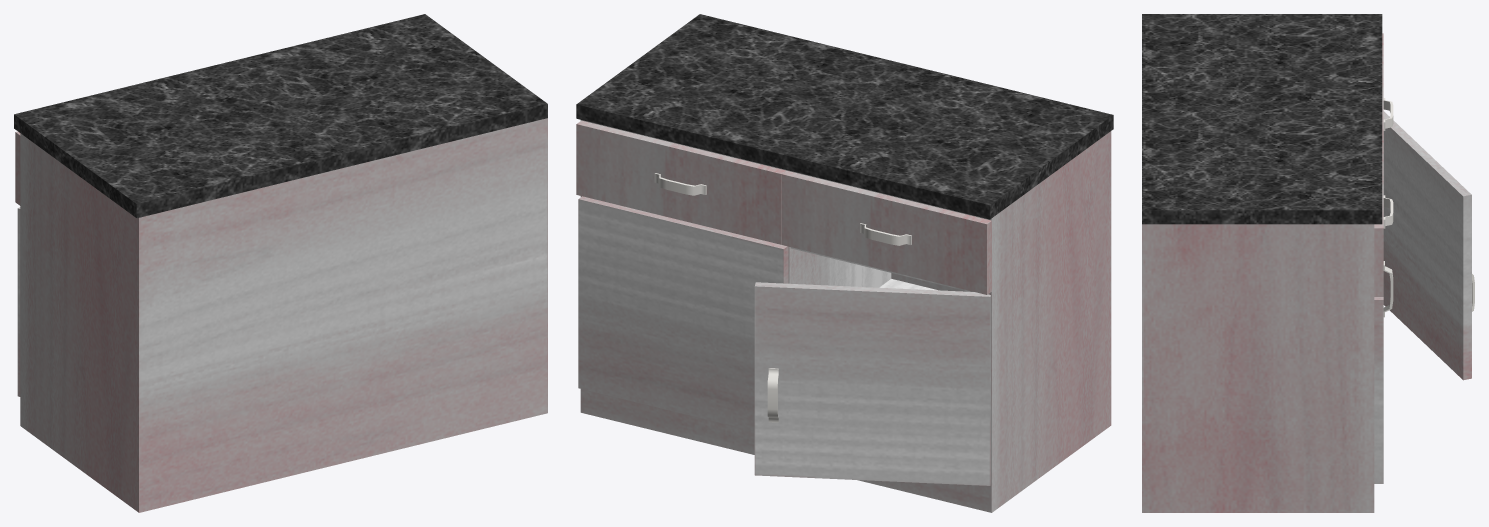
The model's file is cupbpard6.fbx.
3 views of the same model, side by side, from view 1: azimuth 30°, elevation 25°; view 2: azimuth 150°, elevation 25°; view 3: azimuth 270°, elevation 25° (orthographic). The views are drawn at different scales.
Visible parts, largest first — view 1: cupboard6; view 2: cupboard6; view 3: cupboard6.
Boxes of the visible parts, x1,y1,x2,y2 form: cupboard6: [14, 14, 547, 512]; cupboard6: [576, 14, 1113, 512]; cupboard6: [1142, 14, 1474, 512].
Size of the model in its own units: 2.22 by 1.6 by 1.59.
